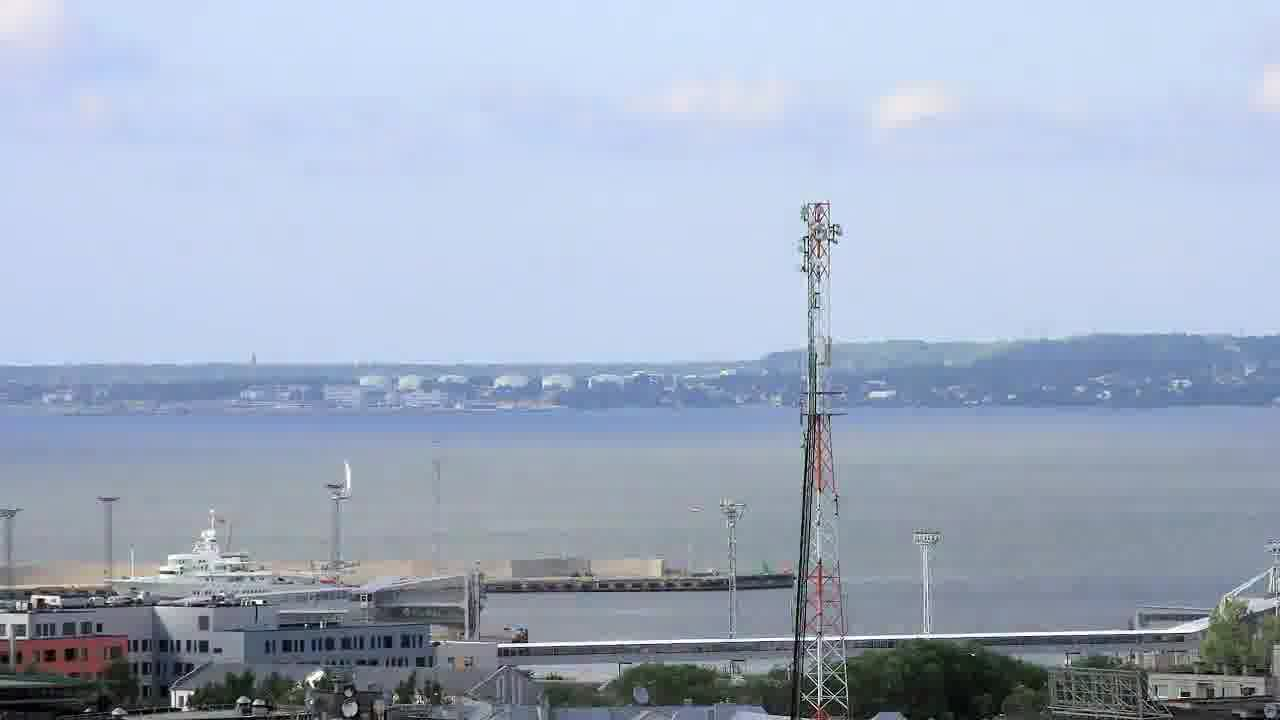type-2: (317, 454, 365, 513)
type-3: (84, 515, 355, 603)
